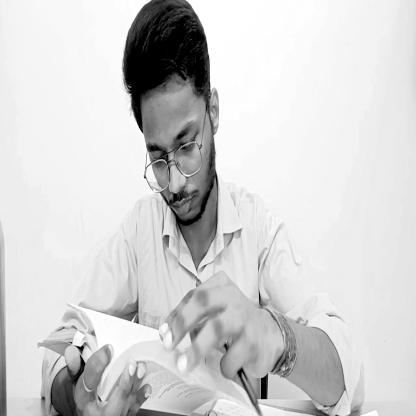Distracted: (122, 0, 217, 234)
